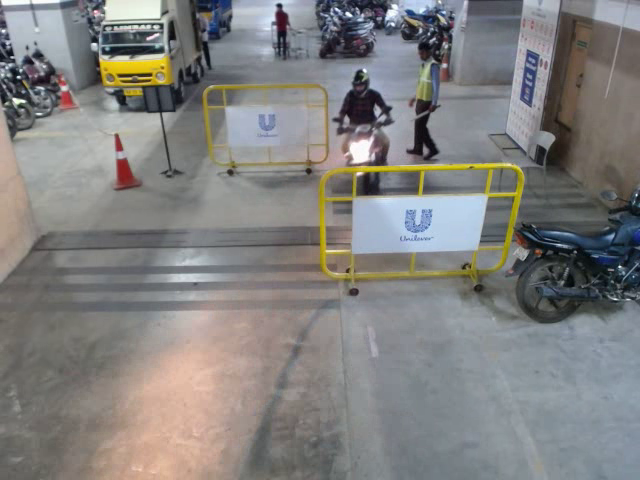with_helmet: (351, 70, 372, 100)
